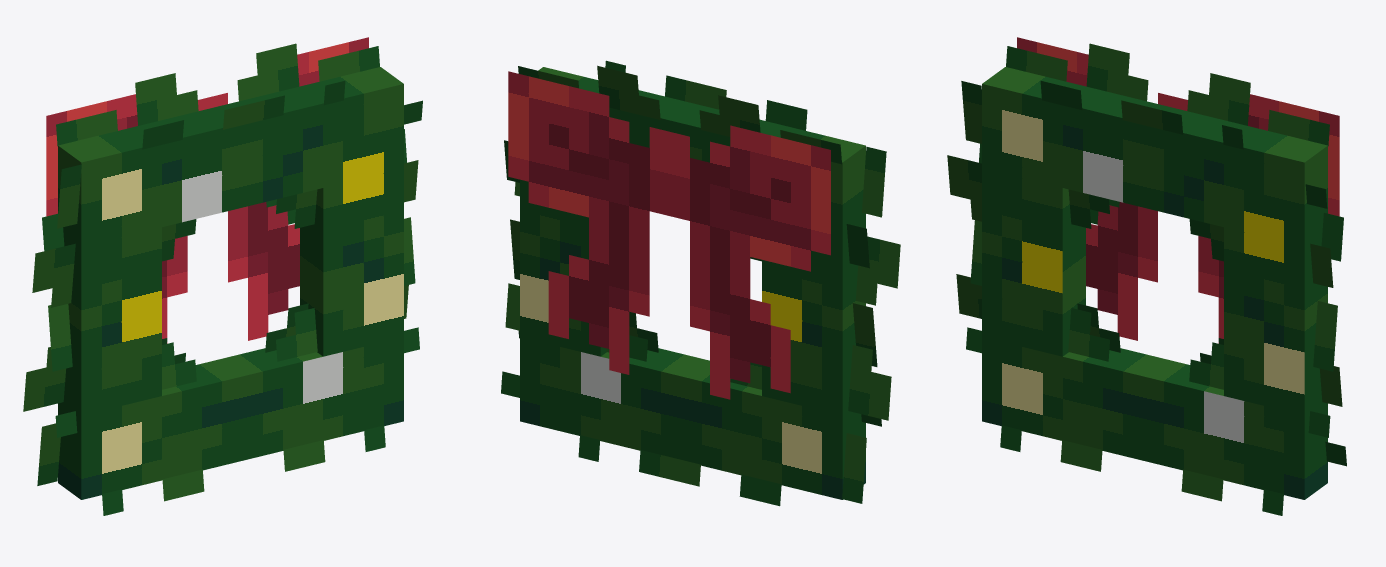
The model's file is christmas-wreath.gltf.
The picture shows the model from 3 angles, left to right: view 1: azimuth 30°, elevation 25°; view 2: azimuth 150°, elevation 25°; view 3: azimuth 330°, elevation 25°; orthographic projection.
Parts seen in each view (by area): view 1: cube (×7); view 2: cube (×7); view 3: cube (×7).
Boxes of the visible parts, x1,y1,x2,y2 form: cube (×7): [23, 37, 422, 515]; cube (×7): [501, 60, 900, 506]; cube (×7): [947, 37, 1346, 515].
Size of the model in its own units: 1 by 0.9915 by 0.1653.
Materials: 1 (1 with a texture image).
